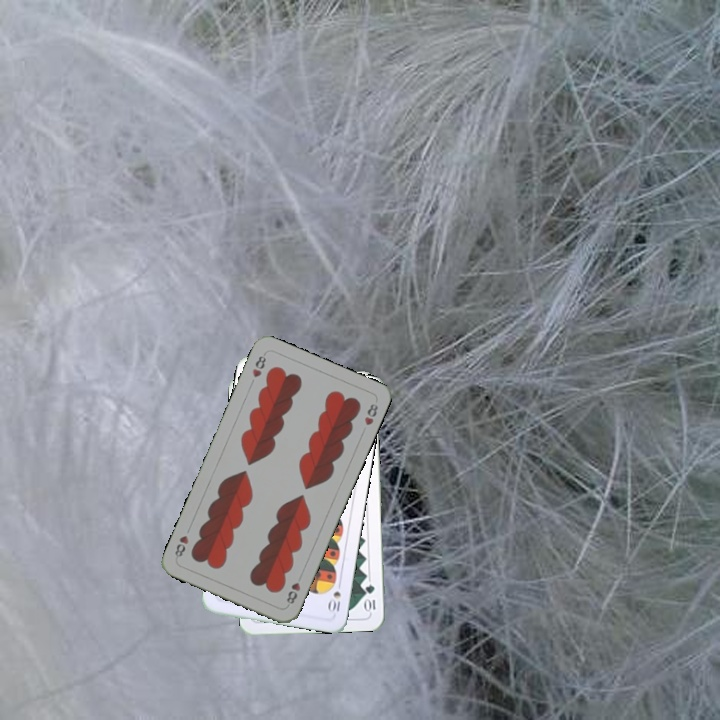G10: (362, 580, 378, 615)
H8: (282, 570, 305, 607), (248, 349, 269, 380)
S10: (324, 577, 344, 614)
